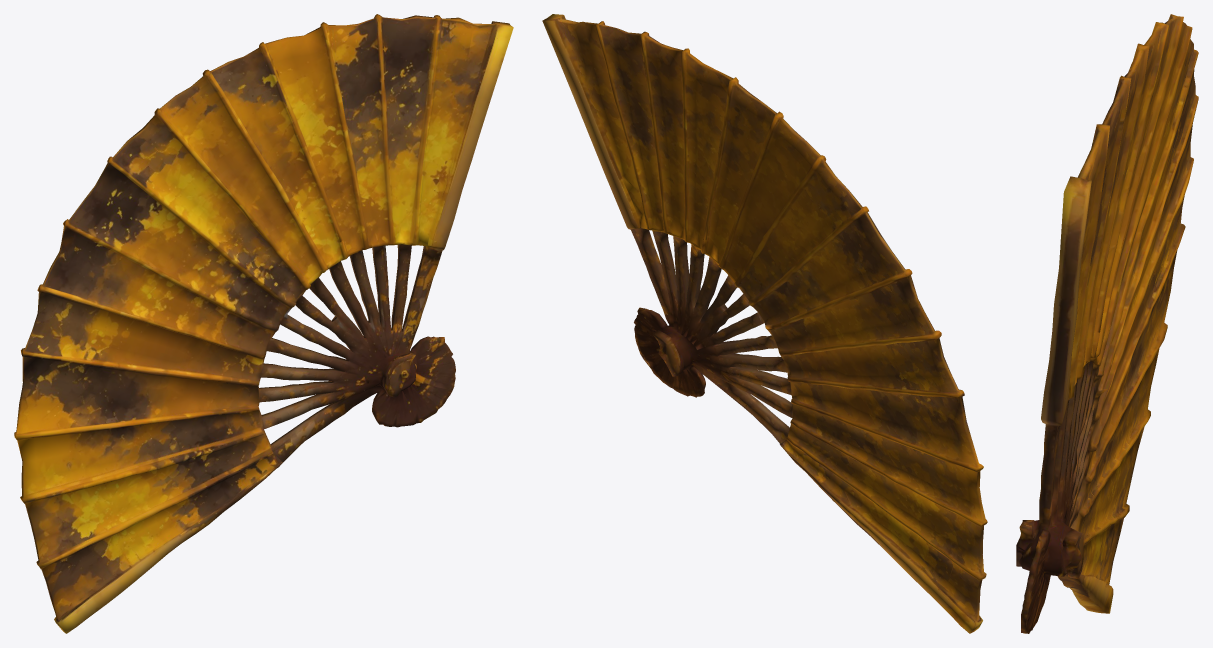
File: fan.glb
3 renders of one model, left to right at view 1: azimuth 30°, elevation 25°; view 2: azimuth 150°, elevation 25°; view 3: azimuth 270°, elevation 25°, orthographic. The views are drawn at different scales.
Parts seen in each view (by area): view 1: tripo_node_3de8d3cf-0c8f-447f-98b5-66d0df85b2c6; view 2: tripo_node_3de8d3cf-0c8f-447f-98b5-66d0df85b2c6; view 3: tripo_node_3de8d3cf-0c8f-447f-98b5-66d0df85b2c6.
Boxes of the visible parts, box(x1,y1,x2,y2) form: tripo_node_3de8d3cf-0c8f-447f-98b5-66d0df85b2c6: box(14, 14, 513, 633); tripo_node_3de8d3cf-0c8f-447f-98b5-66d0df85b2c6: box(542, 14, 987, 633); tripo_node_3de8d3cf-0c8f-447f-98b5-66d0df85b2c6: box(1016, 14, 1198, 633).
Bounding box in the file's own units: 0.9039 × 0.9765 × 0.2121.
Materials: 1 (1 with a texture image).
